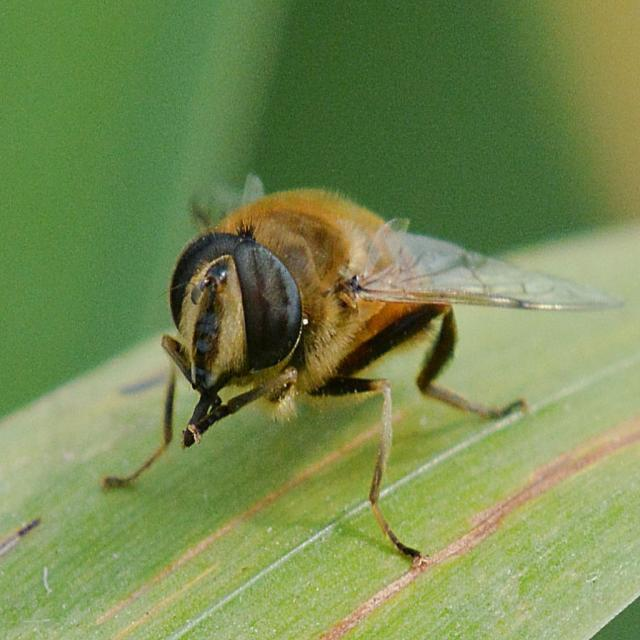hoverfly: (101, 169, 626, 565)
